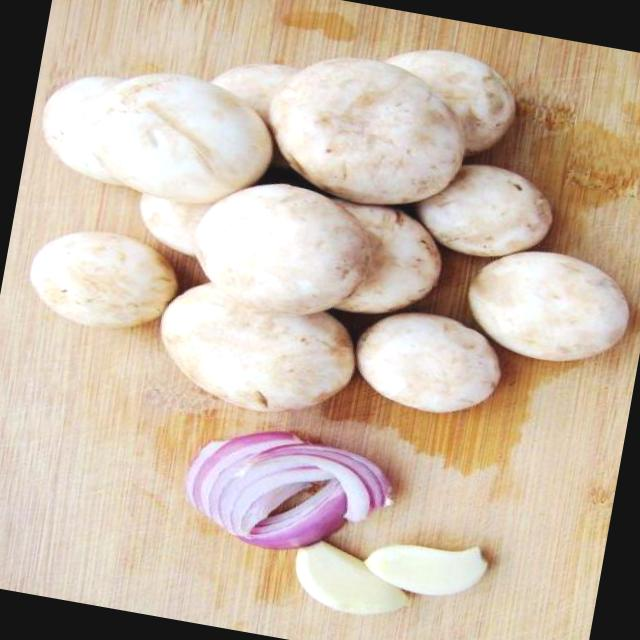Agaricus bisporus: (246, 38, 486, 223), (131, 266, 361, 416), (75, 53, 272, 216), (184, 165, 372, 319), (454, 228, 638, 371), (349, 296, 504, 432), (5, 222, 170, 344)
